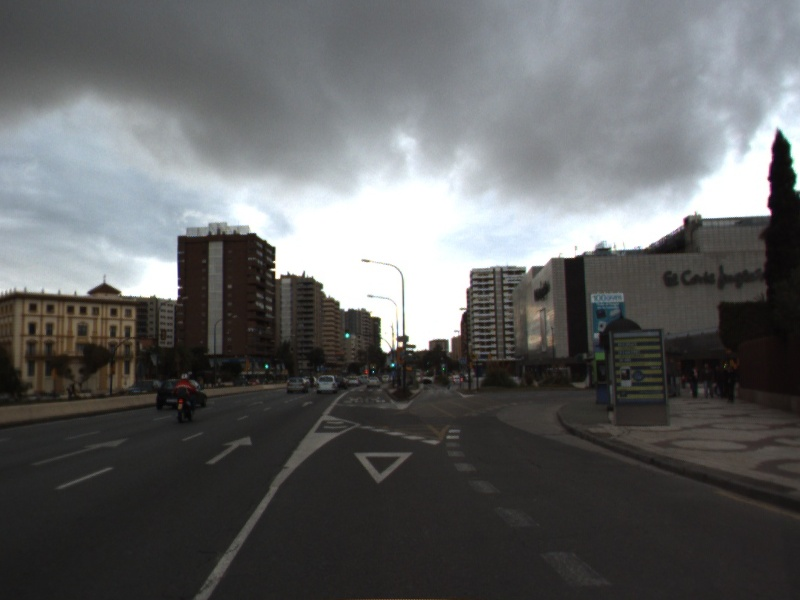STRAIGHT: (27, 437, 131, 468), (203, 433, 255, 467)
